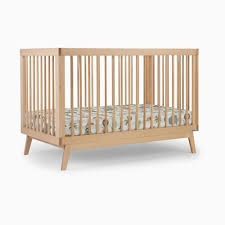crib: (19, 48, 198, 171)
